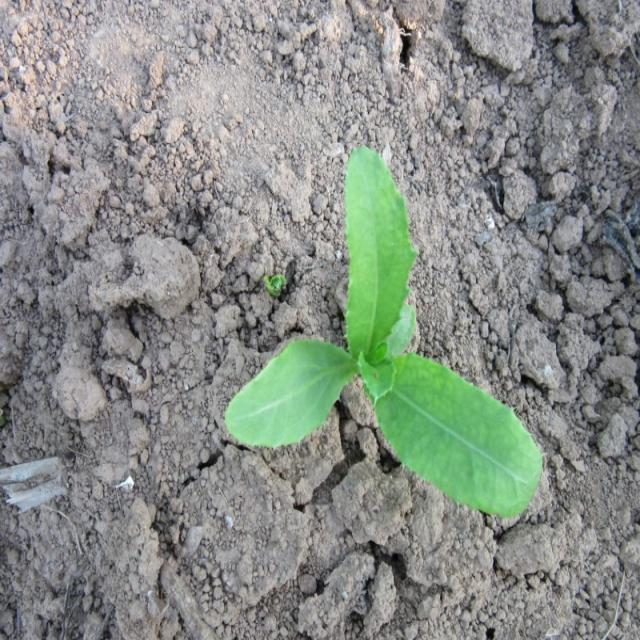cs: (222, 143, 544, 520)
